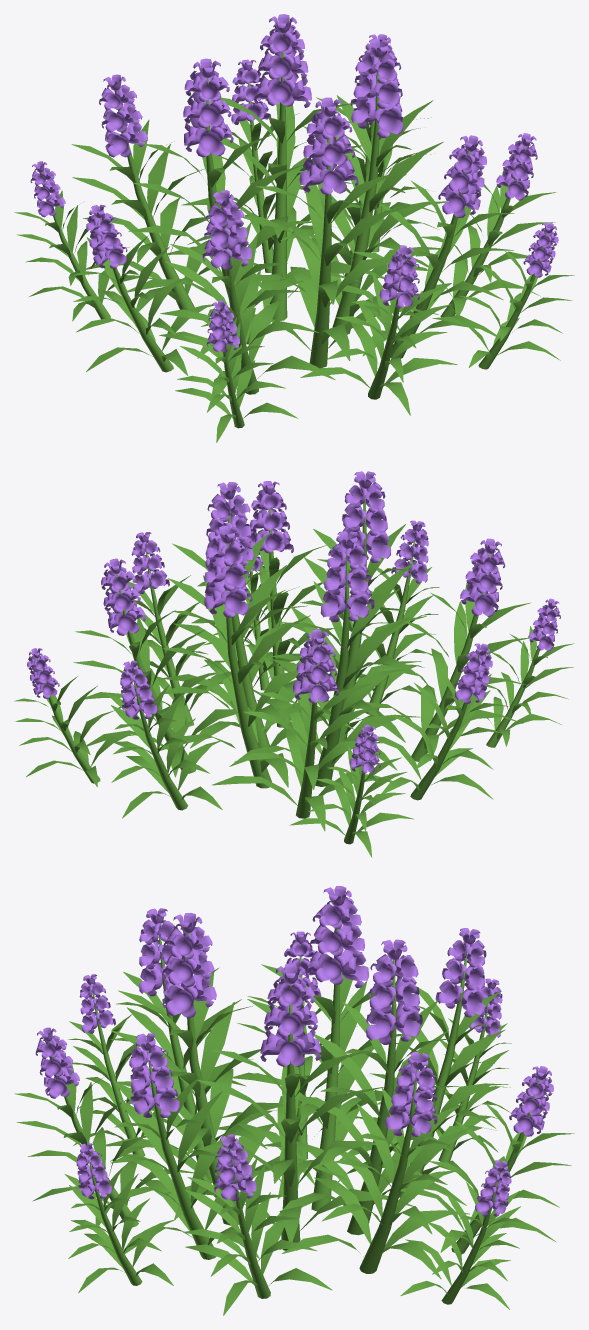
Rendered from Lavender.lv.004.fbx.
The picture shows the model from 3 angles, top to bottom: view 1: azimuth 30°, elevation 25°; view 2: azimuth 150°, elevation 25°; view 3: azimuth 270°, elevation 25°; orthographic projection. The views are drawn at different scales.
Parts seen in each view (by area): view 1: Cube.049; view 2: Cube.049; view 3: Cube.049.
Boxes of the visible parts, <box> form: Cube.049: <box>14,14,574,442</box>; Cube.049: <box>14,471,574,857</box>; Cube.049: <box>14,886,574,1315</box>.
Bounding box in the file's own units: 177 × 106 × 180.
